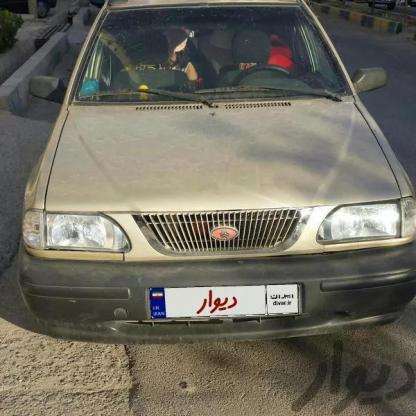Car: (5, 0, 416, 340)
